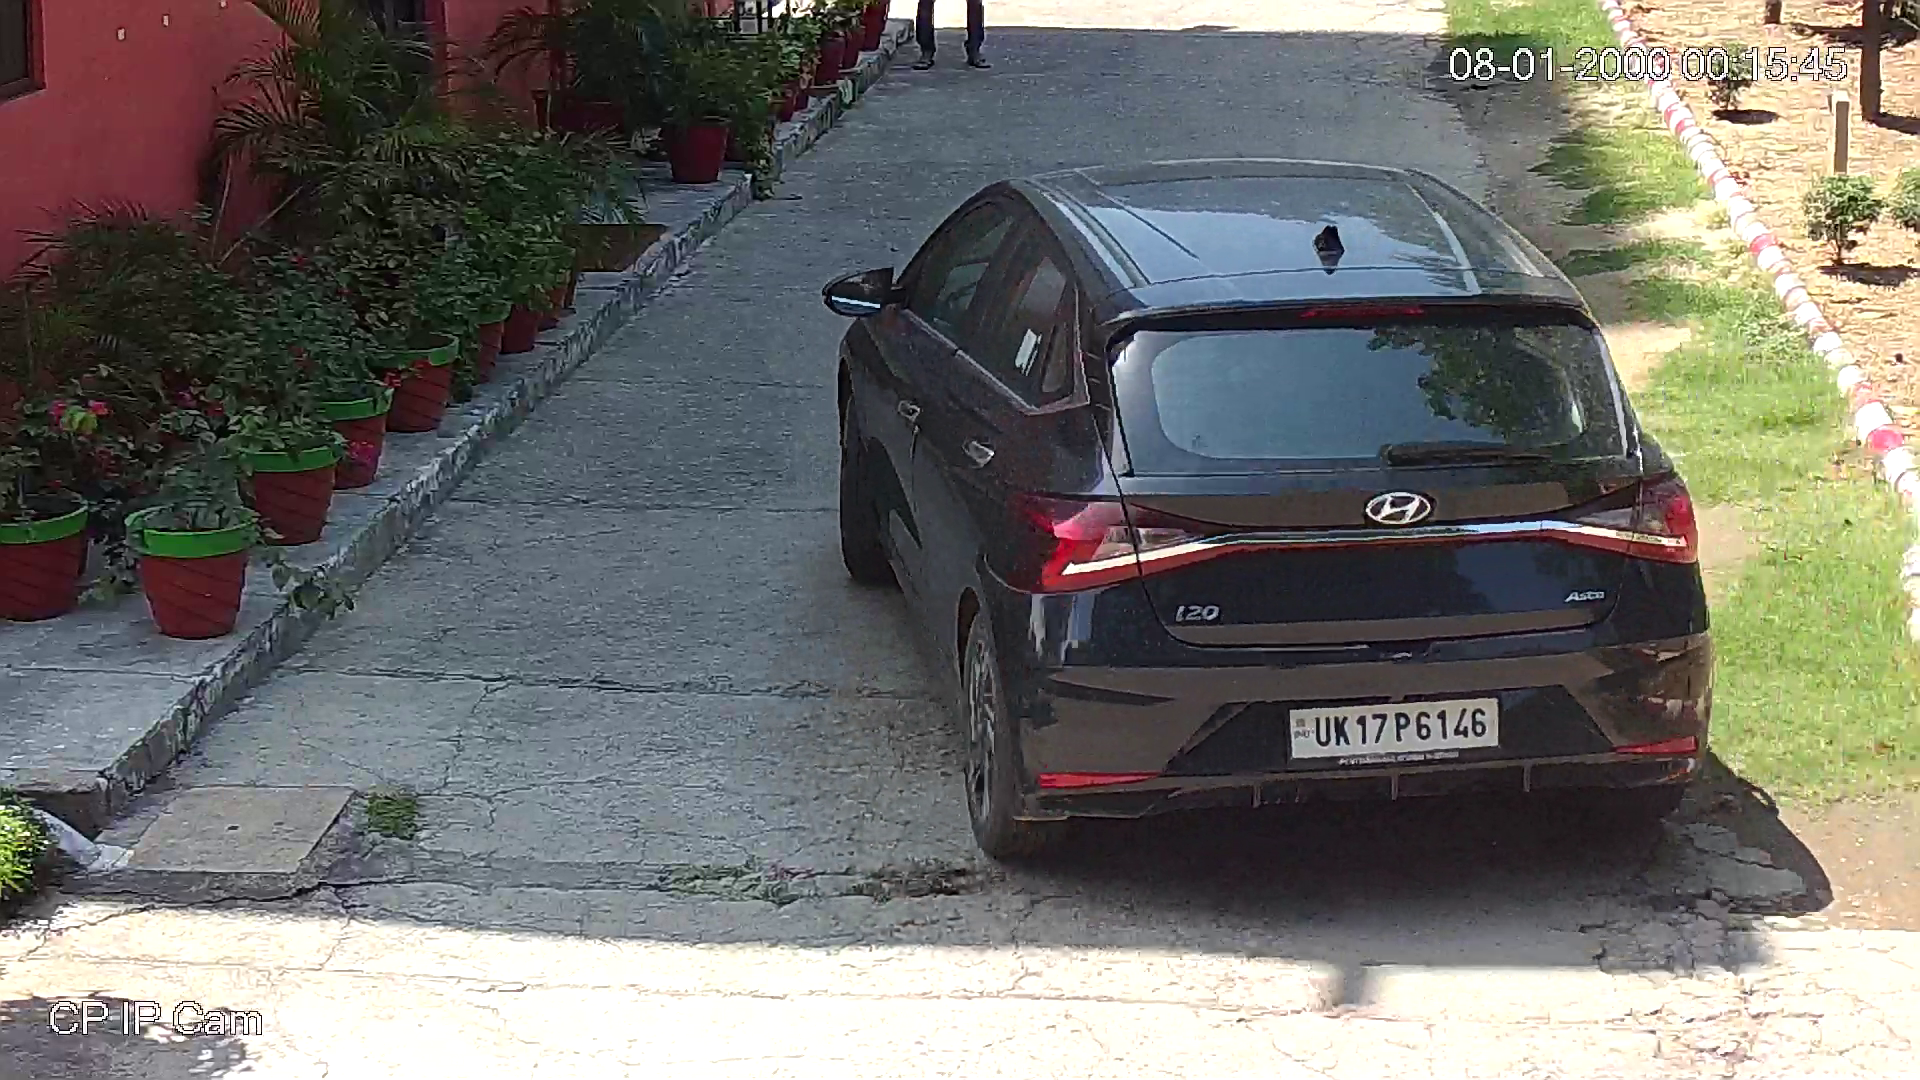plate: (1279, 689, 1510, 775)
